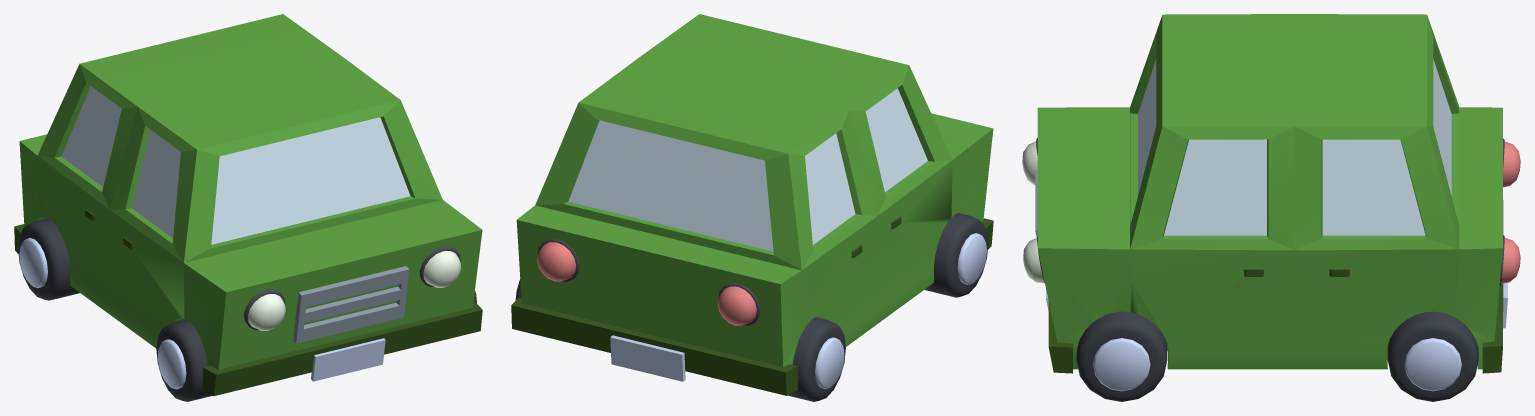
File: Tall car.fbx
The picture shows the model from 3 angles, left to right: view 1: azimuth 30°, elevation 25°; view 2: azimuth 150°, elevation 25°; view 3: azimuth 270°, elevation 25°; orthographic projection. The views are drawn at different scales.
Visible parts, largest first — view 1: car.001, plate.001, Wheels.001, Headlights.001; view 2: car.001, Wheels.001, tailLights.001, plate.001; view 3: car.001, Wheels.001, tailLights.001, Headlights.001, plate.001.
Part boxes in pixels (<box>): car.001: <box>14,14,482,395</box>; plate.001: <box>293,266,409,381</box>; Wheels.001: <box>18,218,476,401</box>; Headlights.001: <box>244,246,461,330</box>; car.001: <box>511,14,993,395</box>; Wheels.001: <box>515,213,988,401</box>; tailLights.001: <box>537,239,760,326</box>; plate.001: <box>610,335,685,381</box>; car.001: <box>1037,14,1503,373</box>; Wheels.001: <box>1076,311,1478,401</box>; tailLights.001: <box>1499,138,1520,285</box>; Headlights.001: <box>1022,138,1044,283</box>; plate.001: <box>1035,171,1507,328</box>.
Bounding box in the file's own units: 235 × 173 × 306.
